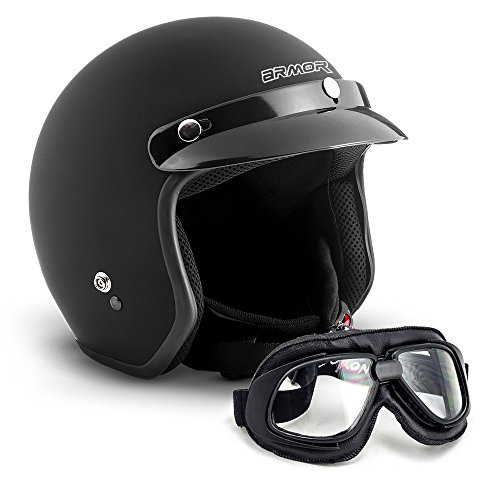with_helmet: (32, 14, 381, 379)
